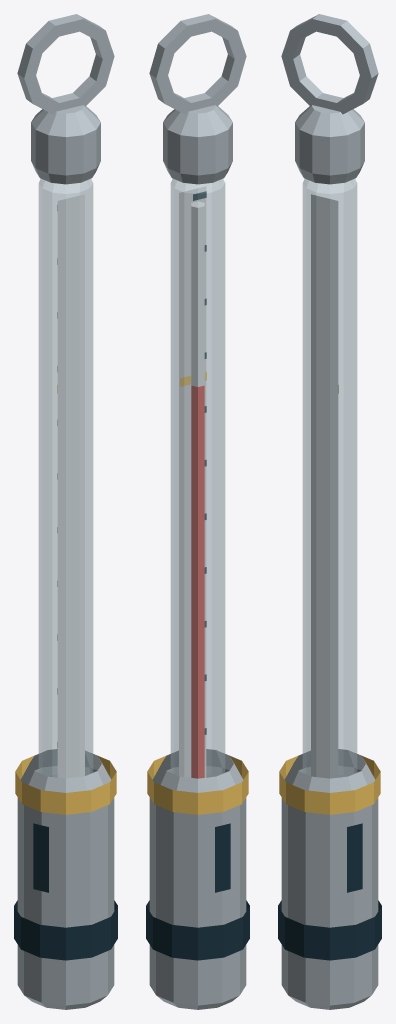
The model's file is thermometer.obj.
3 views of the same model, side by side, from view 1: azimuth 30°, elevation 25°; view 2: azimuth 210°, elevation 25°; view 3: azimuth 330°, elevation 25° (orthographic).
Parts seen in each view (by area): view 1: glass, sleeve, scale_card, cap, ring, sleeve_ring, setpoint, slot_1; view 2: glass, sleeve, scale_card, column, cap, ring, sleeve_ring, setpoint, capillary, slot_2, ticks; view 3: glass, sleeve, scale_card, cap, ring, sleeve_ring, setpoint, slot_0.
Part boxes in pixels (bbox=[...]): glass: bbox=[38, 179, 93, 778]; sleeve: bbox=[17, 749, 114, 1009]; scale_card: bbox=[57, 194, 84, 778]; cap: bbox=[31, 105, 100, 184]; ring: bbox=[17, 14, 114, 114]; sleeve_ring: bbox=[14, 900, 117, 960]; setpoint: bbox=[15, 754, 116, 814]; slot_1: bbox=[33, 823, 48, 892]; glass: bbox=[170, 179, 225, 778]; sleeve: bbox=[149, 749, 246, 1009]; scale_card: bbox=[179, 186, 206, 777]; column: bbox=[191, 386, 204, 778]; cap: bbox=[163, 105, 232, 184]; ring: bbox=[149, 14, 246, 114]; sleeve_ring: bbox=[146, 900, 249, 960]; setpoint: bbox=[147, 754, 248, 814]; capillary: bbox=[191, 201, 204, 386]; slot_2: bbox=[215, 823, 230, 892]; ticks: bbox=[193, 191, 206, 734]; glass: bbox=[302, 179, 357, 778]; sleeve: bbox=[281, 749, 378, 1009]; scale_card: bbox=[311, 194, 338, 778]; cap: bbox=[295, 105, 364, 184]; ring: bbox=[281, 14, 378, 114]; sleeve_ring: bbox=[278, 900, 381, 960]; setpoint: bbox=[279, 754, 380, 814]; slot_0: bbox=[347, 823, 362, 892].
Bounding box in the file's own units: 0.0173 × 0.1777 × 0.0172.
